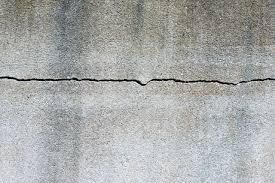crack: (0, 73, 274, 86)
